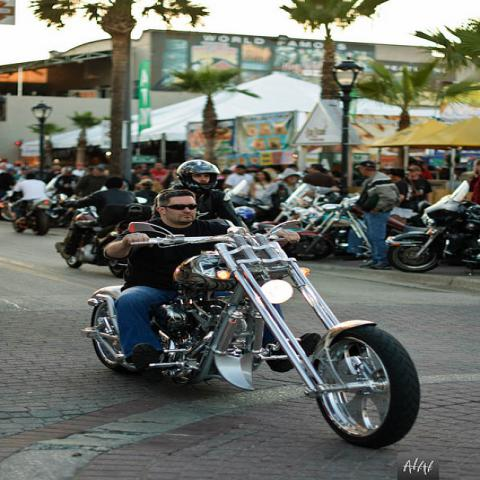motorcycle: (80, 220, 420, 450), (385, 180, 478, 274), (66, 202, 153, 276), (280, 196, 359, 260), (276, 184, 340, 225), (225, 180, 280, 224), (62, 207, 98, 254), (12, 198, 54, 236), (47, 193, 78, 228), (249, 225, 275, 233)
